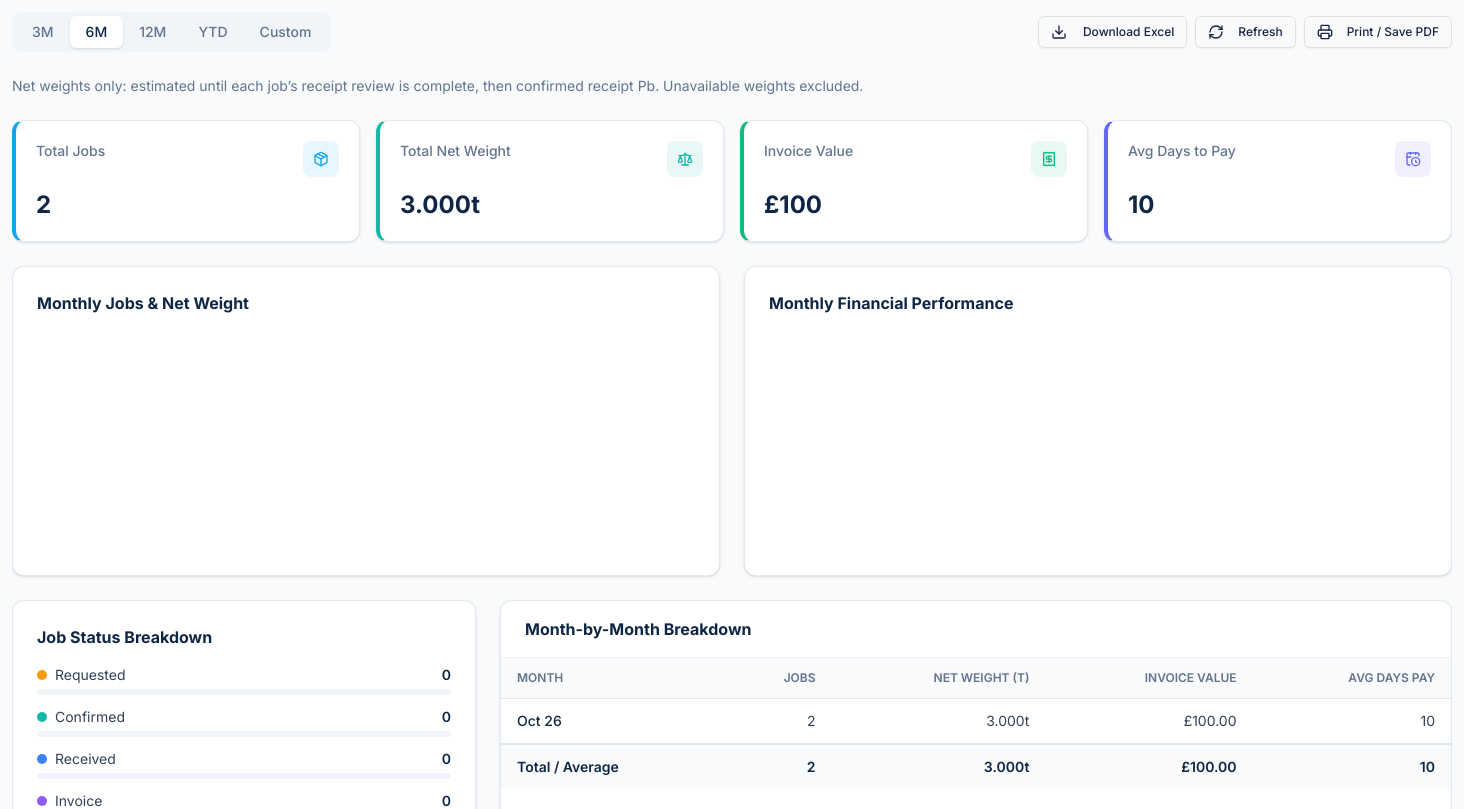
it: KPI controls and visibility › sends exact custom dates and validates reversed ranges
Expected: the text "Total Jobs" is shown, [36,141,105,161]
Click the button "Custom": (286, 32) [244,16,327,48]
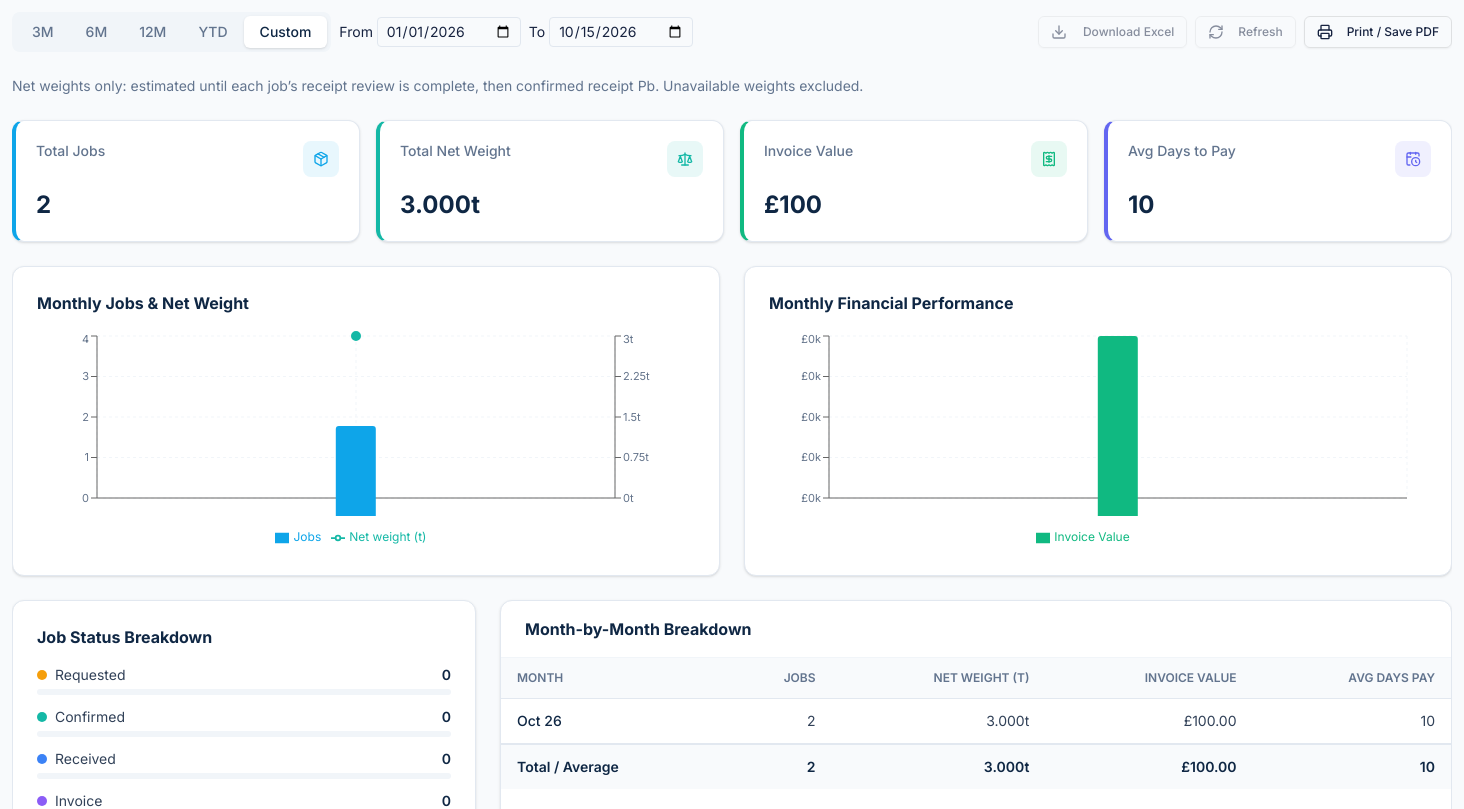
In the date field named "Start date": (449, 32) [377,17,521,47], type "2026-10-06"
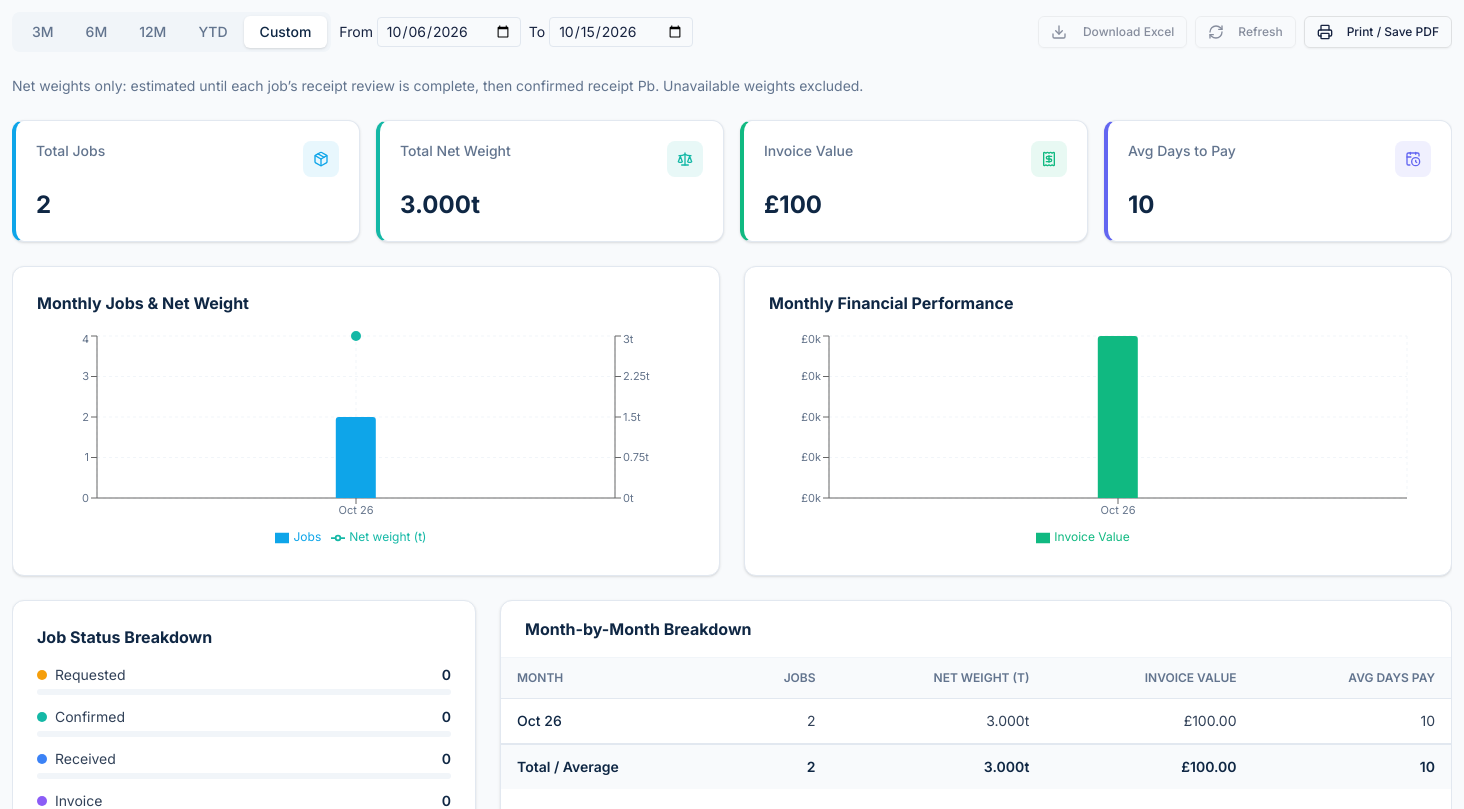
In the date field named "End date": (621, 32) [549,17,693,47], type "2026-10-12"
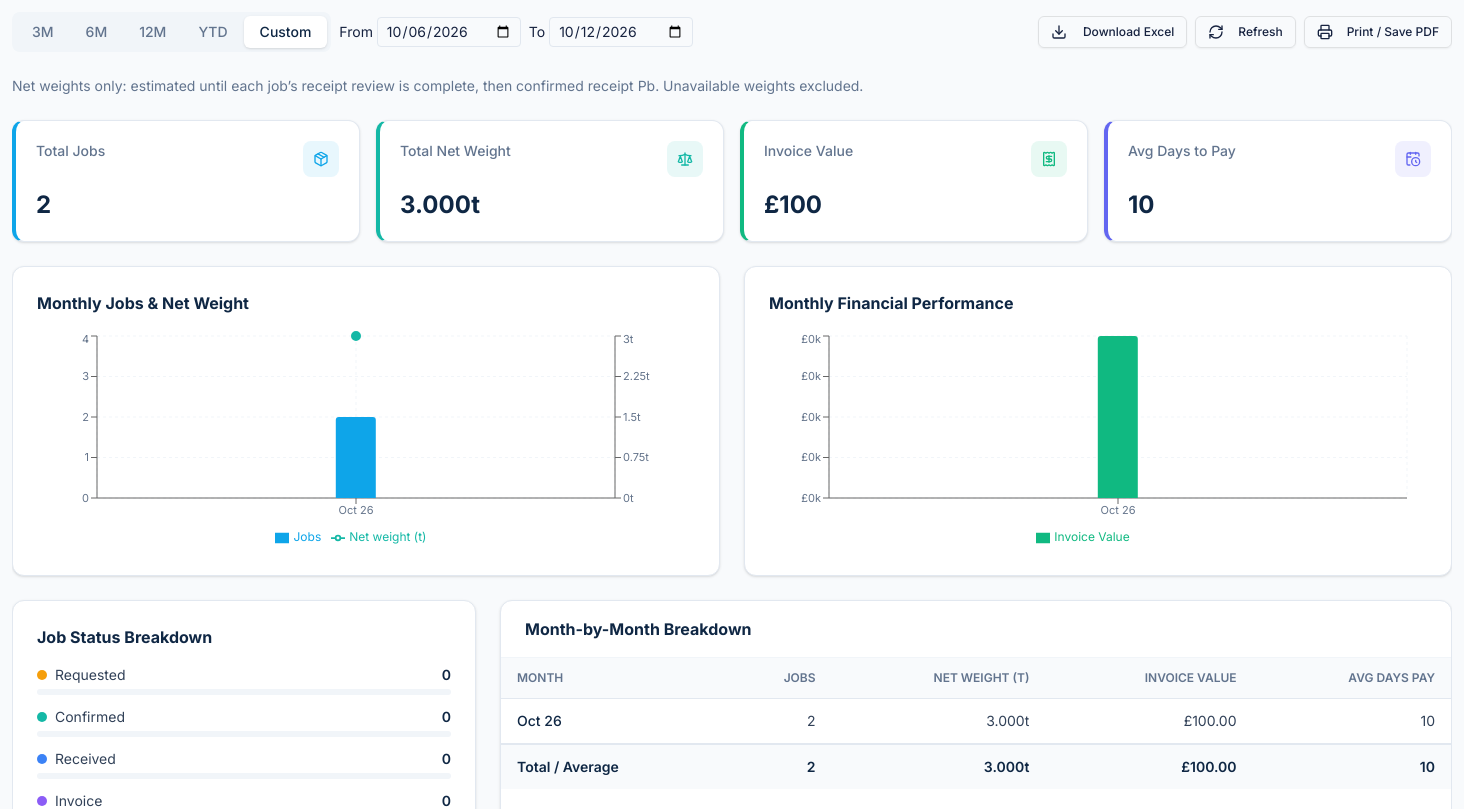
Expected: the button "Download Excel" is enabled
Click the button "Download Excel": (1113, 32) [1038,16,1187,48]
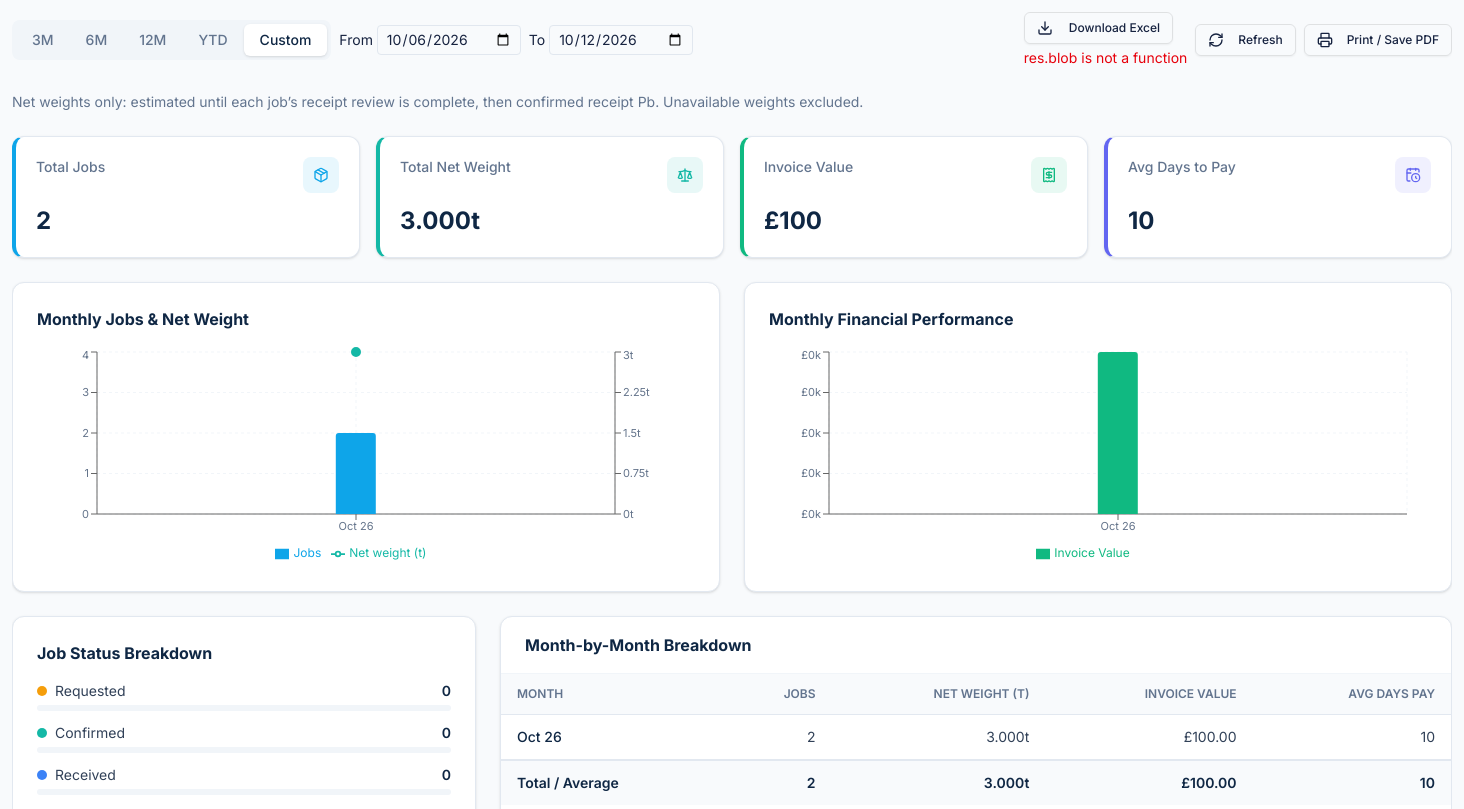
Expected: the message "res.blob is not a function" is shown, [1024,48,1187,68]
In the date field named "End date": (621, 40) [549,25,693,55], type "2026-10-05"
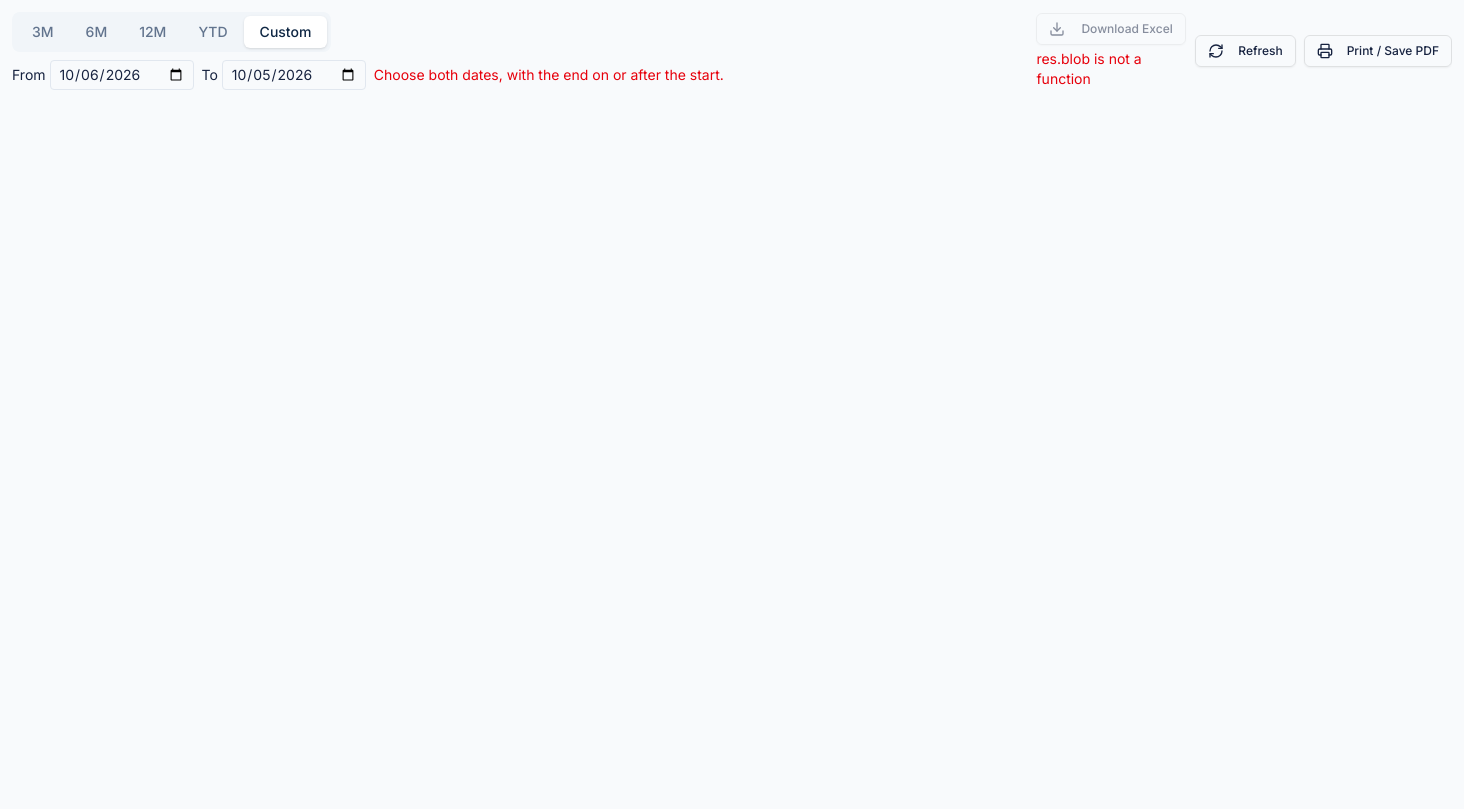
Expected: the text "Choose both dates, with the end on or after the start." is shown, [374,65,724,85]
Expected: the button "Download Excel" is disabled, [1036,13,1186,45]
